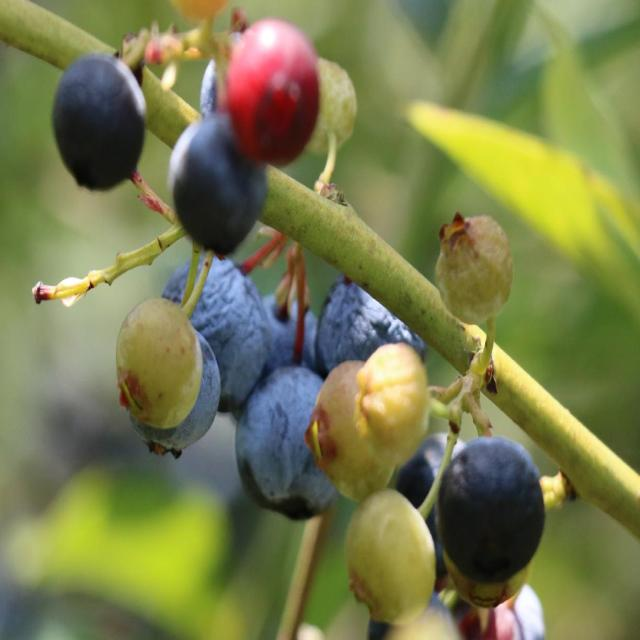blueberry: (232, 360, 344, 525), (160, 244, 268, 414), (428, 430, 550, 580), (161, 105, 268, 266), (46, 45, 151, 200), (115, 317, 224, 465), (383, 423, 478, 589), (310, 264, 428, 376), (246, 283, 324, 393), (194, 22, 257, 129)
blueberry-halfripe: (222, 17, 318, 161)
blueberry-unripe: (342, 486, 438, 621), (113, 294, 201, 428), (311, 361, 388, 496), (434, 209, 514, 325), (358, 338, 424, 458), (305, 49, 361, 153)
